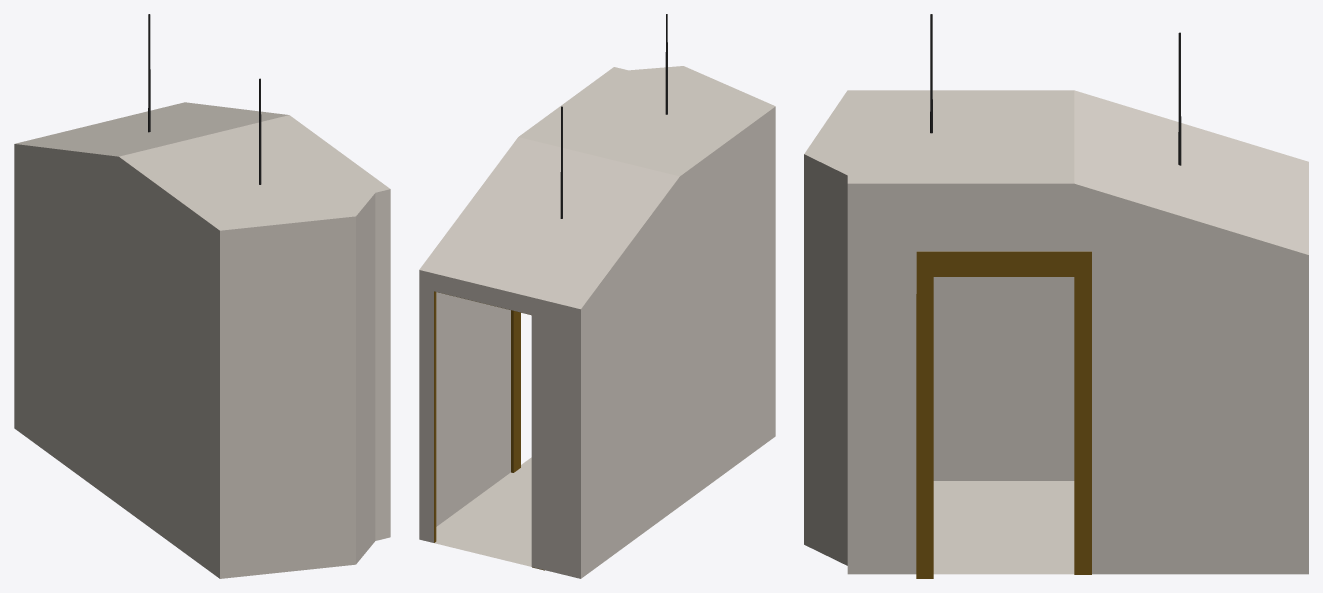
The model's file is room2.glb.
3 views of the same model, side by side, from view 1: azimuth 30°, elevation 25°; view 2: azimuth 150°, elevation 25°; view 3: azimuth 270°, elevation 25° (orthographic). The views are drawn at different scales.
Parts seen in each view (by area): view 1: Walls; view 2: Walls, WideDoorframe, NarrowDoorframe; view 3: Walls, WideDoorframe.
Boxes of the visible parts, <box> form: Walls: <box>14,102,390,578</box>; Walls: <box>419,66,775,578</box>; WideDoorframe: <box>511,310,520,472</box>; NarrowDoorframe: <box>434,291,544,570</box>; Walls: <box>804,90,1308,574</box>; WideDoorframe: <box>916,251,1091,578</box>.
Size of the model in its own units: 1.44 by 3.67 by 3.27.
